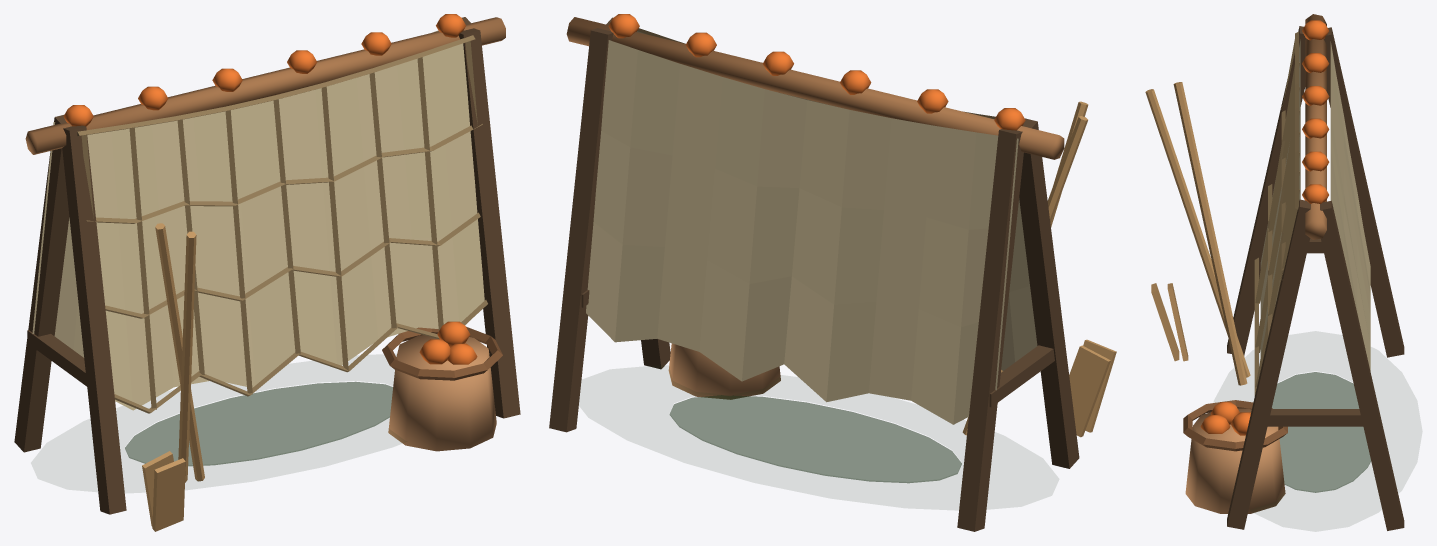
File: net_rack.glb
3 views of the same model, side by side, from view 1: azimuth 30°, elevation 25°; view 2: azimuth 150°, elevation 25°; view 3: azimuth 270°, elevation 25° (orthographic). The views are drawn at different scales.
Visible parts, largest first — view 1: net_rack; view 2: net_rack; view 3: net_rack.
Part boxes in pixels (<box>): net_rack: <box>14,14,520,531</box>; net_rack: <box>549,14,1116,531</box>; net_rack: <box>1145,14,1404,530</box>.
Bounding box in the file's own units: 1.95 × 1.48 × 1.11.
